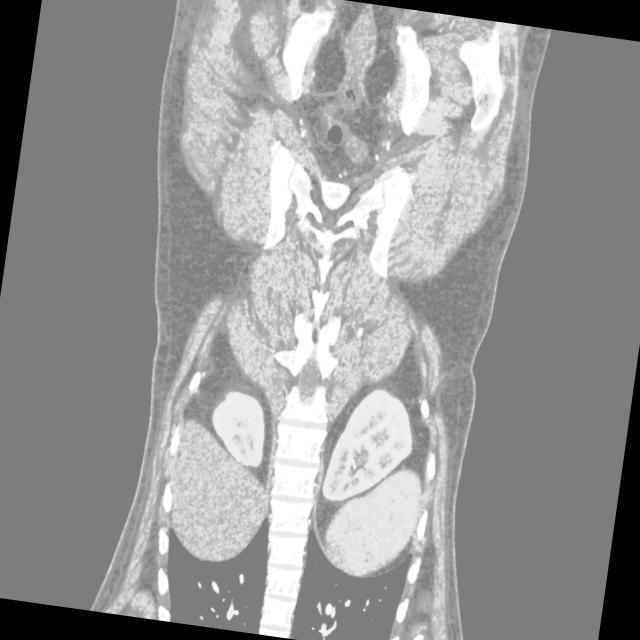NORMAL: (85, 222, 544, 613)
